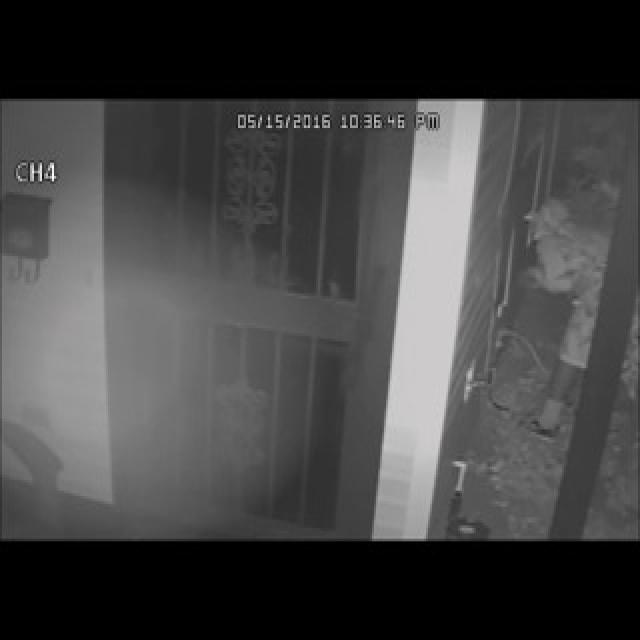thief: (520, 178, 598, 356)
